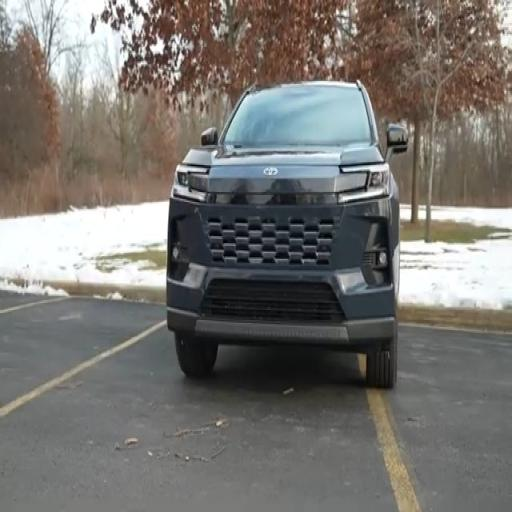bumper: (167, 198, 399, 348), (168, 308, 396, 348)
emblem: (264, 167, 277, 176)
fog_light: (177, 171, 188, 186), (378, 251, 387, 267), (172, 247, 180, 261)
grille: (201, 279, 344, 322), (207, 217, 334, 264)
headlight: (338, 163, 390, 203), (172, 164, 208, 201)
hood: (184, 146, 383, 204), (184, 146, 383, 167)
side_mirror: (387, 124, 408, 160), (201, 127, 218, 146)
tire: (176, 335, 218, 378)
wheel: (366, 329, 397, 389)
windshield: (224, 86, 371, 146)
